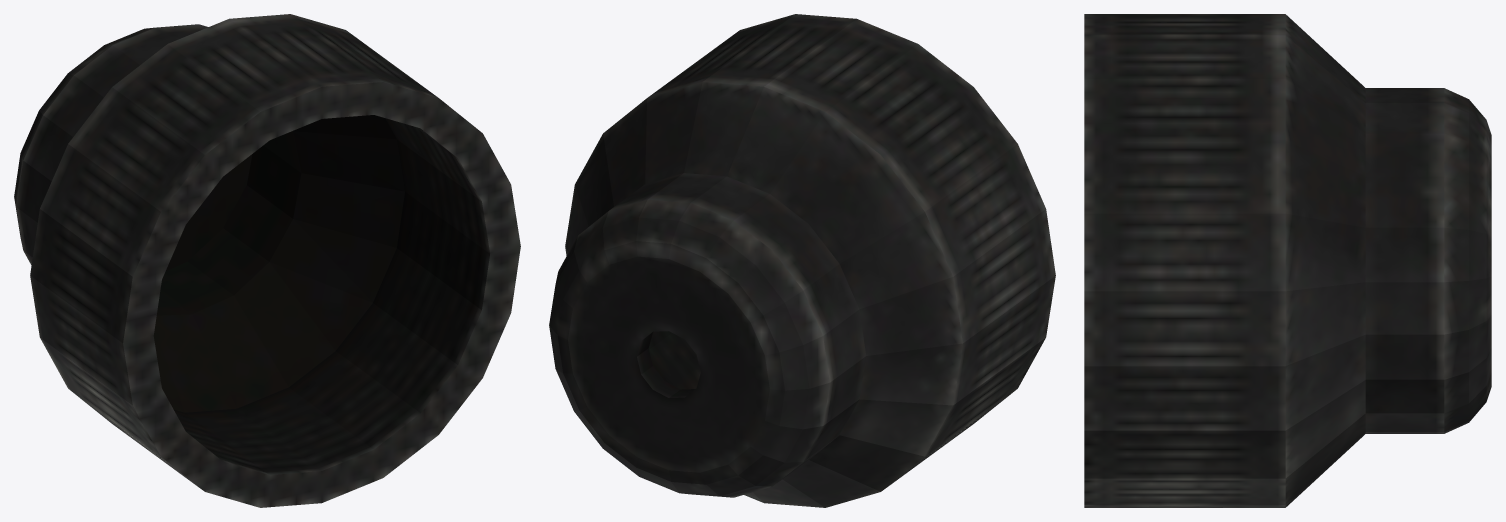
The picture shows the model from 3 angles, left to right: view 1: azimuth 30°, elevation 25°; view 2: azimuth 150°, elevation 25°; view 3: azimuth 270°, elevation 25°; orthographic projection. The views are drawn at different scales.
Visible parts, largest first — view 1: TW_5e87080c81c4ed43e83cefda_PZ_Import; view 2: TW_5e87080c81c4ed43e83cefda_PZ_Import; view 3: TW_5e87080c81c4ed43e83cefda_PZ_Import.
Boxes of the visible parts, left/top/right/bottom form: TW_5e87080c81c4ed43e83cefda_PZ_Import: left=14, top=14, right=520, bottom=507; TW_5e87080c81c4ed43e83cefda_PZ_Import: left=549, top=14, right=1055, bottom=507; TW_5e87080c81c4ed43e83cefda_PZ_Import: left=1084, top=14, right=1491, bottom=507.
Size of the model in its own units: 0.0173 by 0.0142 by 0.0173.
1 material, 1 textured.
